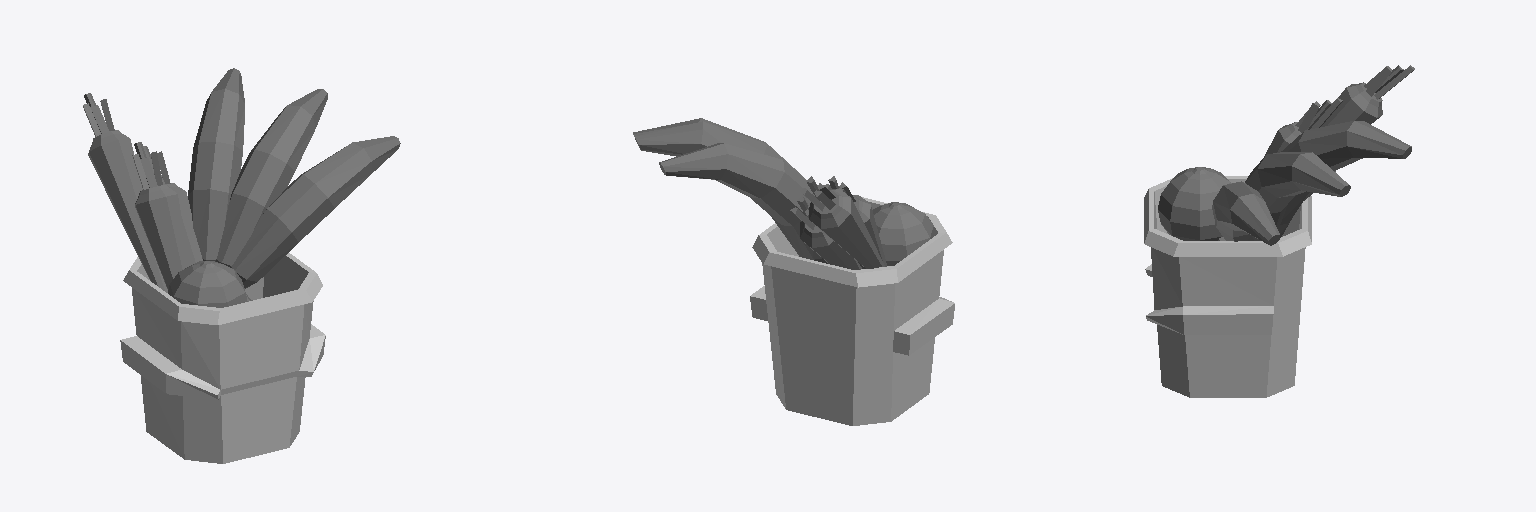
The model's file is quart_container._01obj.obj.
3 views of the same model, side by side, from view 1: azimuth 30°, elevation 25°; view 2: azimuth 150°, elevation 25°; view 3: azimuth 270°, elevation 25° (orthographic).
Parts seen in each view (by area): view 1: Quart_Container_01_Bananas; view 2: Quart_Container_01_Bananas; view 3: Quart_Container_01_Bananas.
Boxes of the visible parts, box(x1,y1,x2,y2) form: Quart_Container_01_Bananas: box(83, 68, 400, 463); Quart_Container_01_Bananas: box(633, 118, 954, 425); Quart_Container_01_Bananas: box(1144, 65, 1414, 397).
Bounding box in the file's own units: 4.83 × 4.73 × 4.09.